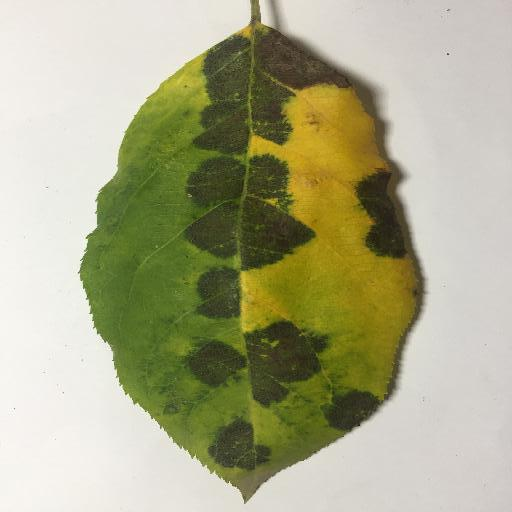Brown_Spot: (250, 39, 344, 93)
